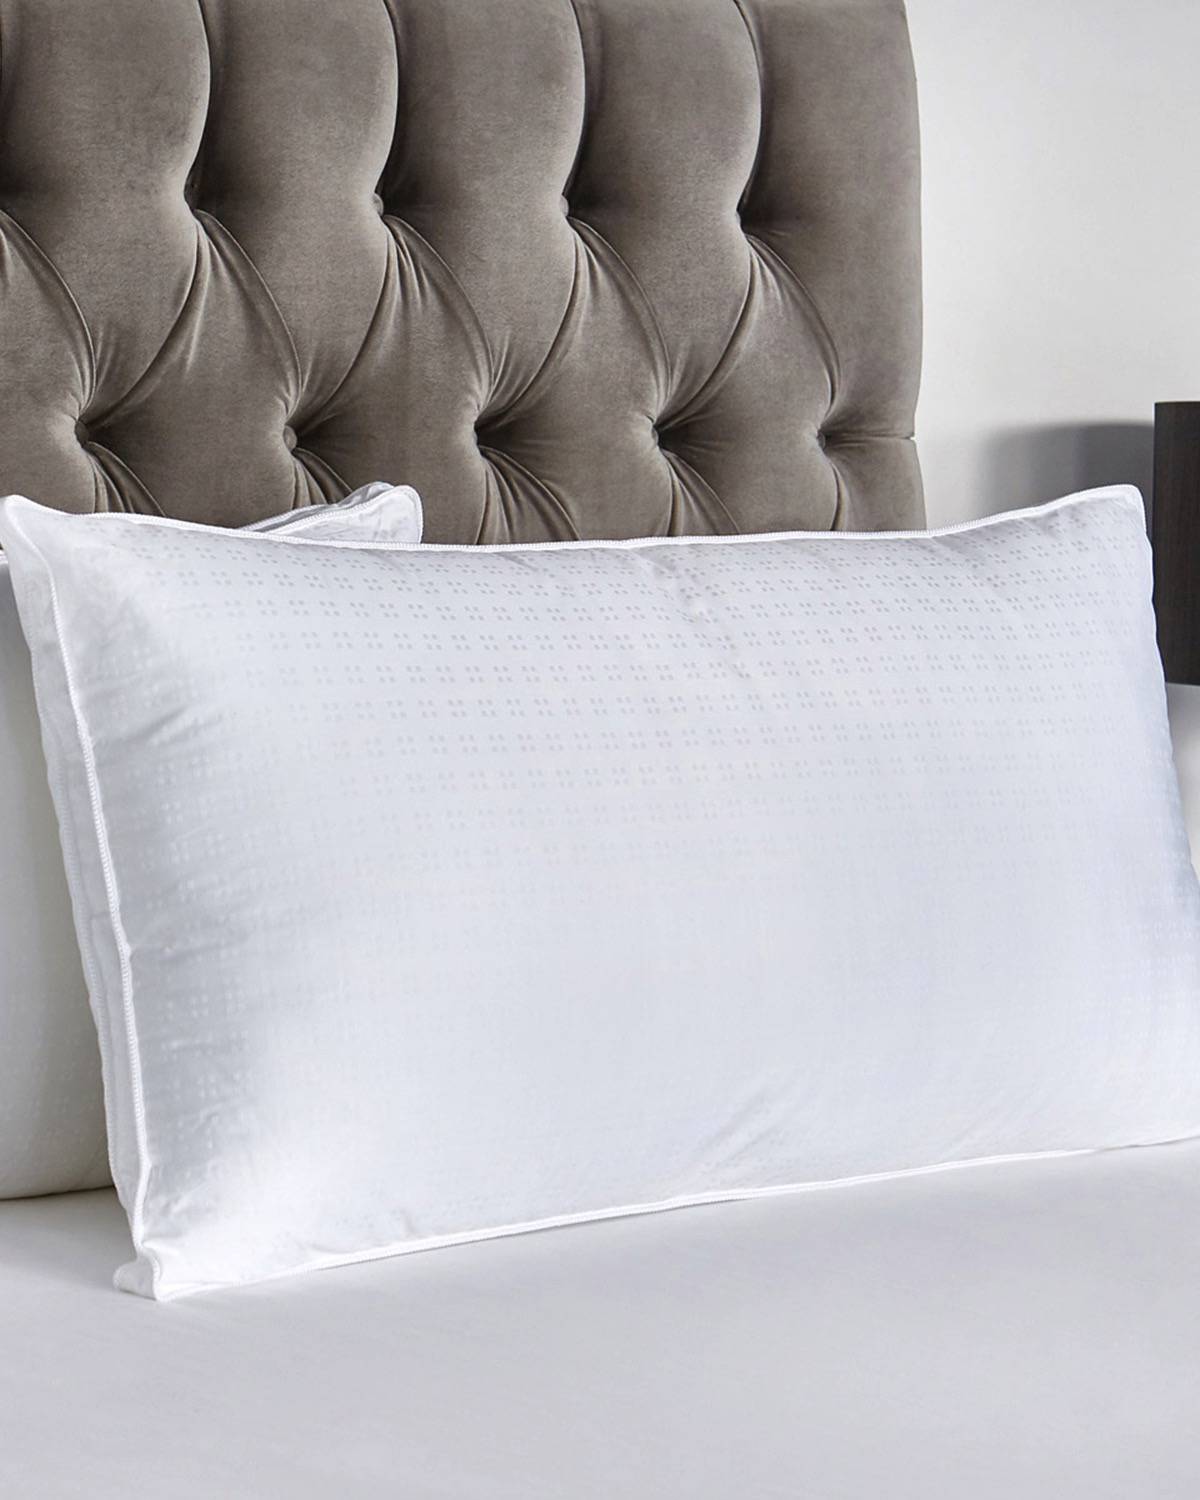bantal: (1, 338, 1200, 1330)
